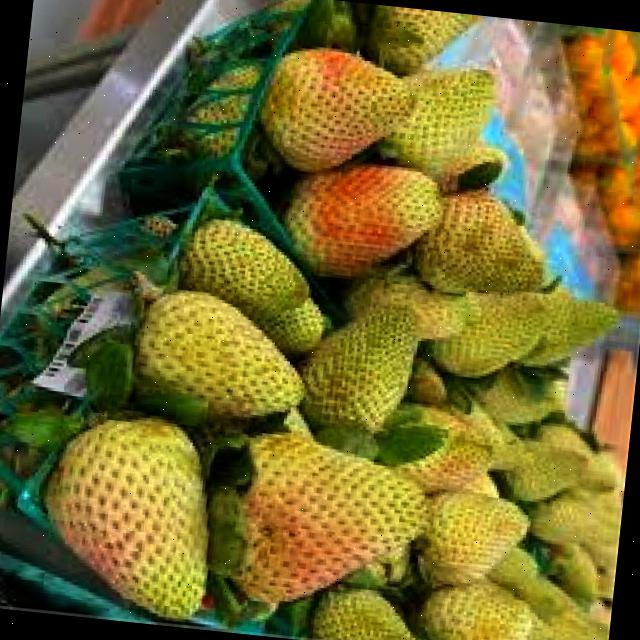strawberry: (215, 427, 434, 618), (32, 410, 220, 623), (131, 288, 311, 427), (261, 44, 417, 180), (279, 158, 442, 284), (295, 298, 421, 439), (414, 185, 550, 302), (177, 217, 316, 325), (384, 61, 494, 178), (416, 489, 532, 590), (512, 294, 621, 376), (497, 440, 587, 504)
